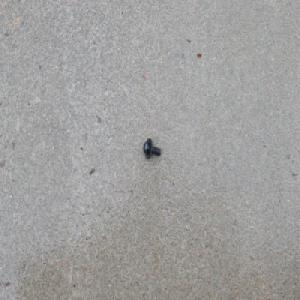BoltWasher: (142, 137, 160, 160)
